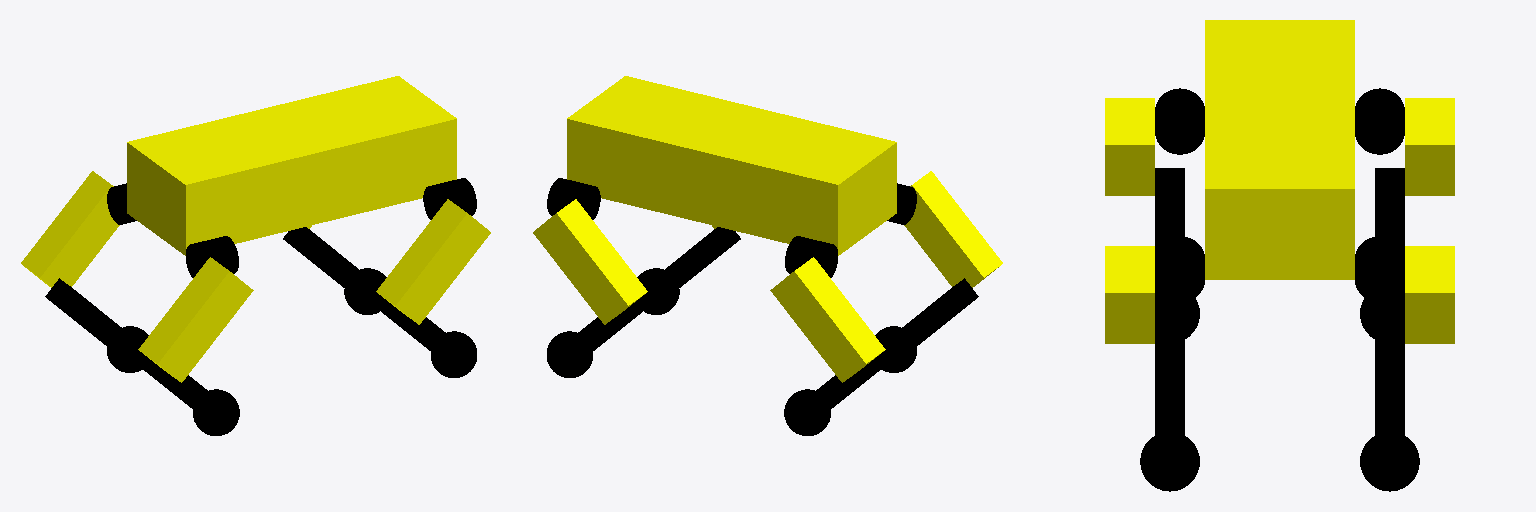
URDF robot description (bipedal):
<?xml version="1.0"?>
<robot name="bipedal" >


  <link name="base_link">
    <visual>
      <geometry>
        <box size="0.4 0.15 0.1"/>
      </geometry>
      <material name="yellow">
        <color rgba="1 1 0 1"/>
      </material>
    </visual>

    <collision>
      <geometry>
        <box size="0.4 0.15 0.1"/>
      </geometry>
    </collision>

    <inertial>
      <mass value="1."/>
      <inertia ixx="0.015"  ixy="0"  ixz="0" iyy="0.015" iyz="0" izz="0.015" />
    </inertial>
  </link>
  
  <link name="fl_shoulder">
    <visual>
      <geometry>
        <cylinder radius="0.025" length="0.05"/>
      </geometry>
      <origin rpy="0 1.5708 0" xyz="0 0 0"/>
      <material name="black">
        <color rgba="0 0 0 1"/>
      </material>
    </visual>

    <collision>
      <geometry>
        <cylinder radius="0.025" length="0.05"/>
      </geometry>
      <origin rpy="0 1.5708 0" xyz="0 0 0"/>
    </collision>

    <inertial>
      <mass value="0.1"/>
      <inertia ixx="0.00005"  ixy="0"  ixz="0" iyy="0.00013" iyz="0" izz="0.00018" />
    </inertial>
  </link>
  
  <joint name="fl_shoulder_to_base" type="revolute">
    <axis xyz="1 0 0"/>
    <limit effort="20" lower="-0.785" upper="0.785" velocity="2"/>
    <origin rpy="0 0 0" xyz="0.175 0.1 -0.05"/>
    <parent link="base_link"/>
    <child link="fl_shoulder"/>
  </joint>

  <link name="fr_shoulder">
    <visual>
      <geometry>
        <cylinder radius="0.025" length="0.05"/>
      </geometry>
      <origin rpy="0 1.5708 0" xyz="0 0 0"/>
      <material name="black">
      </material>
    </visual>

    <collision>
      <geometry>
        <cylinder radius="0.025" length="0.05"/>
      </geometry>
      <origin rpy="0 1.5708 0" xyz="0 0 0"/>
    </collision>

    <inertial>
      <mass value="0.1"/>
      <inertia ixx="0.00005"  ixy="0"  ixz="0" iyy="0.00013" iyz="0" izz="0.00018" />
    </inertial>
  </link>
  
  <joint name="fr_shoulder_to_base" type="revolute">
    <axis xyz="1 0 0"/>
    <limit effort="20" lower="-0.785" upper="0.785" velocity="2"/>
    <origin rpy="0 0 0" xyz="0.175 -0.1 -0.05"/>
    <parent link="base_link"/>
    <child link="fr_shoulder"/>
  </joint>

  <link name="bl_shoulder">
    <visual>
      <geometry>
        <cylinder radius="0.025" length="0.05"/>
      </geometry>
      <origin rpy="0 1.5708 0" xyz="0 0 0"/>
      <material name="black">
      </material>
    </visual>

    <collision>
      <geometry>
        <cylinder radius="0.025" length="0.05"/>
      </geometry>
      <origin rpy="0 1.5708 0" xyz="0 0 0"/>
    </collision>

    <inertial>
      <mass value="0.1"/>
      <inertia ixx="0.00005"  ixy="0"  ixz="0" iyy="0.00013" iyz="0" izz="0.00018" />
    </inertial>
  </link>
  
  <joint name="bl_shoulder_to_base" type="revolute">
    <axis xyz="1 0 0"/>
    <limit effort="20" lower="-0.785" upper="0.785" velocity="2"/>
    <origin rpy="0 0 0" xyz="-0.175 0.1 -0.05"/>
    <parent link="base_link"/>
    <child link="bl_shoulder"/>
  </joint>

  <link name="br_shoulder">
    <visual>
      <geometry>
        <cylinder radius="0.025" length="0.05"/>
      </geometry>
      <origin rpy="0 1.5708 0" xyz="0 0 0"/>
      <material name="black">
      </material>
    </visual>

    <collision>
      <geometry>
        <cylinder radius="0.025" length="0.05"/>
      </geometry>
      <origin rpy="0 1.5708 0" xyz="0 0 0"/>
    </collision>

    <inertial>
      <mass value="0.1"/>
      <inertia ixx="0.00005"  ixy="0"  ixz="0" iyy="0.00013" iyz="0" izz="0.00018" />
    </inertial>
  </link>
  
  <joint name="br_shoulder_to_base" type="revolute">
    <axis xyz="1 0 0"/>
    <limit effort="20" lower="-0.785" upper="0.785" velocity="2"/>
    <origin rpy="0 0 0" xyz="-0.175 -0.1 -0.05"/>
    <parent link="base_link"/>
    <child link="br_shoulder"/>
  </joint>

  <link name="fl_thigh">
    <visual>
      <geometry>
        <box size="0.05 0.05 0.15"/>
      </geometry>
      <origin rpy="0 0 0" xyz="0 0.025 -0.075"/>
      <material name="yellow">
      </material>
    </visual>

    <collision>
      <geometry>
        <box size="0.05 0.05 0.15"/>
      </geometry>
      <origin rpy="0 0 0" xyz="0 0.025 -0.075"/>
    </collision>

    <inertial>
      <mass value="0.1"/>
      <inertia ixx="0.00005"  ixy="0"  ixz="0" iyy="0.00013" iyz="0" izz="0.00018" />
    </inertial>
  </link>
  
  <joint name="fl_thigh_to_shoulder" type="revolute">
    <axis xyz="0 1 0"/>
    <limit effort="20" lower="-0.785" upper="0.785" velocity="2"/>
    <origin rpy="0 0.785 0" xyz="0 0.025 0"/>
    <parent link="fl_shoulder"/>
    <child link="fl_thigh"/>
  </joint>

  <link name="fr_thigh">
    <visual>
      <geometry>
        <box size="0.05 0.05 0.15"/>
      </geometry>
      <origin rpy="0 0 0" xyz="0 -0.025 -0.075"/>
      <material name="yellow">
      </material>
    </visual>

    <collision>
      <geometry>
        <box size="0.05 0.05 0.15"/>
      </geometry>
      <origin rpy="0 0 0" xyz="0 -0.025 -0.075"/>
    </collision>

    <inertial>
      <mass value="0.1"/>
      <inertia ixx="0.00005"  ixy="0"  ixz="0" iyy="0.00013" iyz="0" izz="0.00018" />
    </inertial>
  </link>
  
  <joint name="fr_thigh_to_shoulder" type="revolute">
    <axis xyz="0 1 0"/>
    <limit effort="20" lower="-0.785" upper="0.785" velocity="2"/>
    <origin rpy="0 0.785 0" xyz="0 -0.025 0"/>
    <parent link="fr_shoulder"/>
    <child link="fr_thigh"/>
  </joint>

  <link name="bl_thigh">
    <visual>
      <geometry>
        <box size="0.05 0.05 0.15"/>
      </geometry>
      <origin rpy="0 0 0" xyz="0 0.025 -0.075"/>
      <material name="yellow">
      </material>
    </visual>

    <collision>
      <geometry>
        <box size="0.05 0.05 0.15"/>
      </geometry>
      <origin rpy="0 0 0" xyz="0 0.025 -0.075"/>
    </collision>

    <inertial>
      <mass value="0.1"/>
      <inertia ixx="0.00005"  ixy="0"  ixz="0" iyy="0.00013" iyz="0" izz="0.00018" />
    </inertial>
  </link>
  
  <joint name="bl_thigh_to_shoulder" type="revolute">
    <axis xyz="0 1 0"/>
    <limit effort="20" lower="-0.785" upper="0.785" velocity="2"/>
    <origin rpy="0 0.785 0" xyz="0 0.025 0"/>
    <parent link="bl_shoulder"/>
    <child link="bl_thigh"/>
  </joint>

  <link name="br_thigh">
    <visual>
      <geometry>
        <box size="0.05 0.05 0.15"/>
      </geometry>
      <origin rpy="0 0 0" xyz="0 -0.025 -0.075"/>
      <material name="yellow">
      </material>
    </visual>

    <collision>
      <geometry>
        <box size="0.05 0.05 0.15"/>
      </geometry>
      <origin rpy="0 0 0" xyz="0 -0.025 -0.075"/>
    </collision>

    <inertial>
      <mass value="0.1"/>
      <inertia ixx="0.00005"  ixy="0"  ixz="0" iyy="0.00013" iyz="0" izz="0.00018" />
    </inertial>
  </link>
  
  <joint name="br_thigh_to_shoulder" type="revolute">
    <axis xyz="0 1 0"/>
    <limit effort="20" lower="-0.785" upper="0.785" velocity="2"/>
    <origin rpy="0 0.785 0" xyz="0 -0.025 0"/>
    <parent link="br_shoulder"/>
    <child link="br_thigh"/>
  </joint>

  <link name="fl_bicep">
    <visual>
      <geometry>
        <box size="0.03 0.03 0.15"/>
      </geometry>
      <origin rpy="0 0 0" xyz="0 -0.015 -0.075"/>
      <material name="black">
      </material>
    </visual>
	
	<visual>
      <geometry>
        <sphere radius="0.03"/>
      </geometry>
      <origin rpy="0 0 0" xyz="0 -0.015 -0.15"/>
      <material name="black">
      </material>
    </visual>
	
    <collision>
      <geometry>
        <box size="0.03 0.03 0.15"/>
      </geometry>
      <origin rpy="0 0 0" xyz="0 -0.015 -0.075"/>
    </collision>

	<collision>
      <geometry>
        <sphere radius="0.03"/>
      </geometry>
      <origin rpy="0 0 0" xyz="0 -0.015 -0.15"/>
    </collision>	


    <inertial>
      <mass value="0.1"/>
      <inertia ixx="0.00005"  ixy="0"  ixz="0" iyy="0.00013" iyz="0" izz="0.00018" />
    </inertial>
  </link>
  
  <joint name="fl_bicep_to_thigh" type="revolute">
    <axis xyz="0 1 0"/>
    <limit effort="20" lower="-0.785" upper="0.785" velocity="2"/>
    <origin rpy="0 -1.5708 0" xyz="0 0 -0.15"/>
    <parent link="fl_thigh"/>
    <child link="fl_bicep"/>
  </joint>

  <link name="fr_bicep">
    <visual>
      <geometry>
        <box size="0.03 0.03 0.15"/>
      </geometry>
      <origin rpy="0 0 0" xyz="0 0.015 -0.075"/>
      <material name="black">
      </material>
    </visual>
	
	<visual>
      <geometry>
        <sphere radius="0.03"/>
      </geometry>
      <origin rpy="0 0 0" xyz="0 0.015 -0.15"/>
      <material name="black">
      </material>
    </visual>
	
    <collision>
      <geometry>
        <box size="0.03 0.03 0.15"/>
      </geometry>
      <origin rpy="0 0 0" xyz="0 0.015 -0.075"/>
    </collision>

	<collision>
      <geometry>
        <sphere radius="0.03"/>
      </geometry>
      <origin rpy="0 0 0" xyz="0 0.015 -0.15"/>
    </collision>	


    <inertial>
      <mass value="0.1"/>
      <inertia ixx="0.00005"  ixy="0"  ixz="0" iyy="0.00013" iyz="0" izz="0.00018" />
    </inertial>
  </link>
  
  <joint name="fr_bicep_to_thigh" type="revolute">
    <axis xyz="0 1 0"/>
    <limit effort="20" lower="-0.785" upper="0.785" velocity="2"/>
    <origin rpy="0 -1.5708 0" xyz="0 0 -0.15"/>
    <parent link="fr_thigh"/>
    <child link="fr_bicep"/>
  </joint>

  <link name="bl_bicep">
    <visual>
      <geometry>
        <box size="0.03 0.03 0.15"/>
      </geometry>
      <origin rpy="0 0 0" xyz="0 -0.015 -0.075"/>
      <material name="black">
      </material>
    </visual>
	
	<visual>
      <geometry>
        <sphere radius="0.03"/>
      </geometry>
      <origin rpy="0 0 0" xyz="0 -0.015 -0.15"/>
      <material name="black">
      </material>
    </visual>
	
    <collision>
      <geometry>
        <box size="0.03 0.03 0.15"/>
      </geometry>
      <origin rpy="0 0 0" xyz="0 -0.015 -0.075"/>
    </collision>

	<collision>
      <geometry>
        <sphere radius="0.03"/>
      </geometry>
      <origin rpy="0 0 0" xyz="0 -0.015 -0.15"/>
    </collision>	


    <inertial>
      <mass value="0.1"/>
      <inertia ixx="0.00005"  ixy="0"  ixz="0" iyy="0.00013" iyz="0" izz="0.00018" />
    </inertial>
  </link>
  
  <joint name="bl_bicep_to_thigh" type="revolute">
    <axis xyz="0 1 0"/>
    <limit effort="20" lower="-0.785" upper="0.785" velocity="2"/>
    <origin rpy="0 -1.5708 0" xyz="0 0 -0.15"/>
    <parent link="bl_thigh"/>
    <child link="bl_bicep"/>
  </joint>

  <link name="br_bicep">
    <visual>
      <geometry>
        <box size="0.03 0.03 0.15"/>
      </geometry>
      <origin rpy="0 0 0" xyz="0 0.015 -0.075"/>
      <material name="black">
      </material>
    </visual>
	
	<visual>
      <geometry>
        <sphere radius="0.03"/>
      </geometry>
      <origin rpy="0 0 0" xyz="0 0.015 -0.15"/>
      <material name="black">
      </material>
    </visual>
	
    <collision>
      <geometry>
        <box size="0.03 0.03 0.15"/>
      </geometry>
      <origin rpy="0 0 0" xyz="0 0.015 -0.075"/>
    </collision>

	<collision>
      <geometry>
        <sphere radius="0.03"/>
      </geometry>
      <origin rpy="0 0 0" xyz="0 0.015 -0.15"/>
    </collision>	


    <inertial>
      <mass value="0.1"/>
      <inertia ixx="0.00005"  ixy="0"  ixz="0" iyy="0.00013" iyz="0" izz="0.00018" />
    </inertial>
  </link>
  
  <joint name="br_bicep_to_thigh" type="revolute">
    <axis xyz="0 1 0"/>
    <limit effort="20" lower="-0.785" upper="0.785" velocity="2"/>
    <origin rpy="0 -1.5708 0" xyz="0 0 -0.15"/>
    <parent link="br_thigh"/>
    <child link="br_bicep"/>
  </joint>
</robot>

--- Facts derived from the render (not from the file) ---
The picture shows the robot from 3 angles, left to right: view 1: azimuth 30°, elevation 25°; view 2: azimuth 150°, elevation 25°; view 3: azimuth 270°, elevation 25°; orthographic projection.
Model bipedal with 13 links and 12 joints (12 revolute), rooted at base_link, posed every joint at zero.
Links seen in each view (by area): view 1: base_link, fr_thigh, br_thigh, bl_thigh, bl_bicep, fl_bicep, br_bicep, fr_bicep, fr_shoulder, br_shoulder, bl_shoulder; view 2: base_link, fl_thigh, bl_thigh, br_thigh, br_bicep, fr_bicep, bl_bicep, fl_bicep, fl_shoulder, bl_shoulder, br_shoulder; view 3: base_link, fl_bicep, fr_bicep, fl_thigh, fr_thigh, bl_thigh, br_thigh, bl_bicep, br_bicep, fl_shoulder, fr_shoulder, bl_shoulder (+1 smaller).
Boxes of the visible links, x1,y1,x2,y2 form: base_link: (127, 76, 456, 255); fr_thigh: (376, 199, 490, 324); br_thigh: (138, 257, 253, 382); bl_thigh: (21, 171, 119, 287); bl_bicep: (45, 278, 148, 372); fl_bicep: (283, 227, 386, 314); br_bicep: (132, 351, 239, 435); fr_bicep: (369, 292, 476, 377); fr_shoulder: (423, 178, 476, 219); br_shoulder: (186, 236, 238, 277); bl_shoulder: (107, 183, 136, 224); base_link: (567, 76, 896, 255); fl_thigh: (533, 199, 647, 324); bl_thigh: (770, 257, 885, 382); br_thigh: (904, 171, 1002, 287); br_bicep: (875, 278, 978, 372); fr_bicep: (637, 227, 740, 314); bl_bicep: (784, 351, 891, 435); fl_bicep: (547, 292, 654, 377); fl_shoulder: (547, 178, 600, 219); bl_shoulder: (785, 236, 837, 277); br_shoulder: (887, 183, 916, 224); base_link: (1205, 20, 1354, 279); fl_bicep: (1360, 316, 1419, 491); fr_bicep: (1140, 316, 1199, 491); fl_thigh: (1405, 246, 1454, 343); fr_thigh: (1105, 246, 1154, 343); bl_thigh: (1405, 98, 1454, 195); br_thigh: (1105, 98, 1154, 195); bl_bicep: (1360, 168, 1404, 338); br_bicep: (1155, 168, 1199, 338); fl_shoulder: (1355, 236, 1404, 302); fr_shoulder: (1155, 236, 1204, 302); bl_shoulder: (1355, 88, 1404, 154).
Size in the robot's own frame: 0.5038 by 0.35 by 0.3421 metres.
Geometry: primitives only (box / cylinder / sphere), no mesh files.